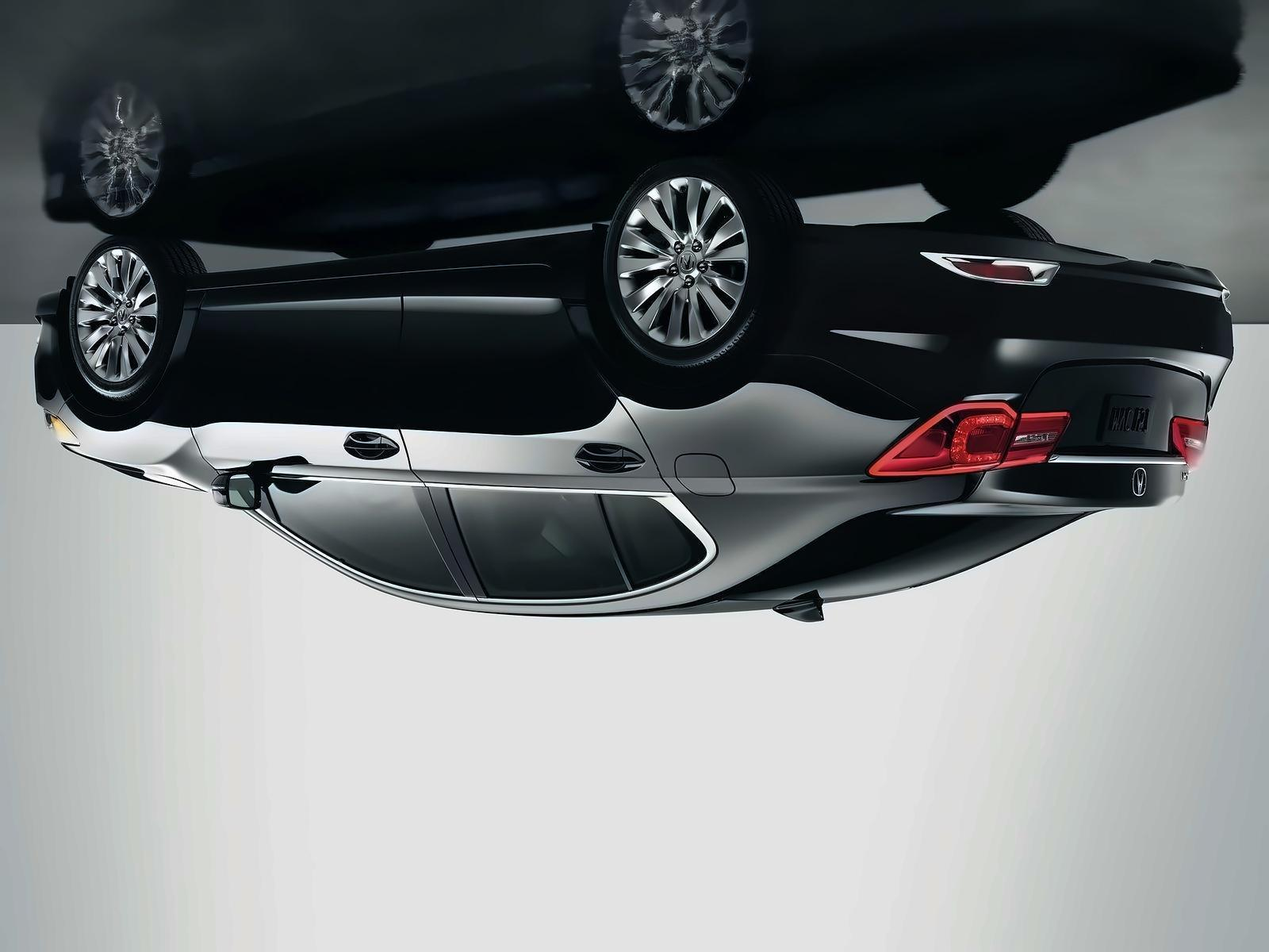Car boot: (974, 354, 1215, 528)
Driver-s door - -F-R-: (192, 276, 448, 613)
Fender - -F-R-: (55, 270, 210, 505)
Fender - -R-R-: (571, 273, 912, 553)
Front bumper: (21, 275, 83, 404)
Headlight - -R-: (32, 402, 83, 453)
Passenger-s door - -R-R-: (406, 276, 669, 613)
Rear bumper: (777, 211, 1247, 393)
Rear light - -L-: (1158, 411, 1226, 465)
Rear light - -R-: (862, 387, 1072, 485)
Side bumper - -R-: (176, 230, 593, 303)
Side mirror - -R-: (194, 465, 266, 520)
